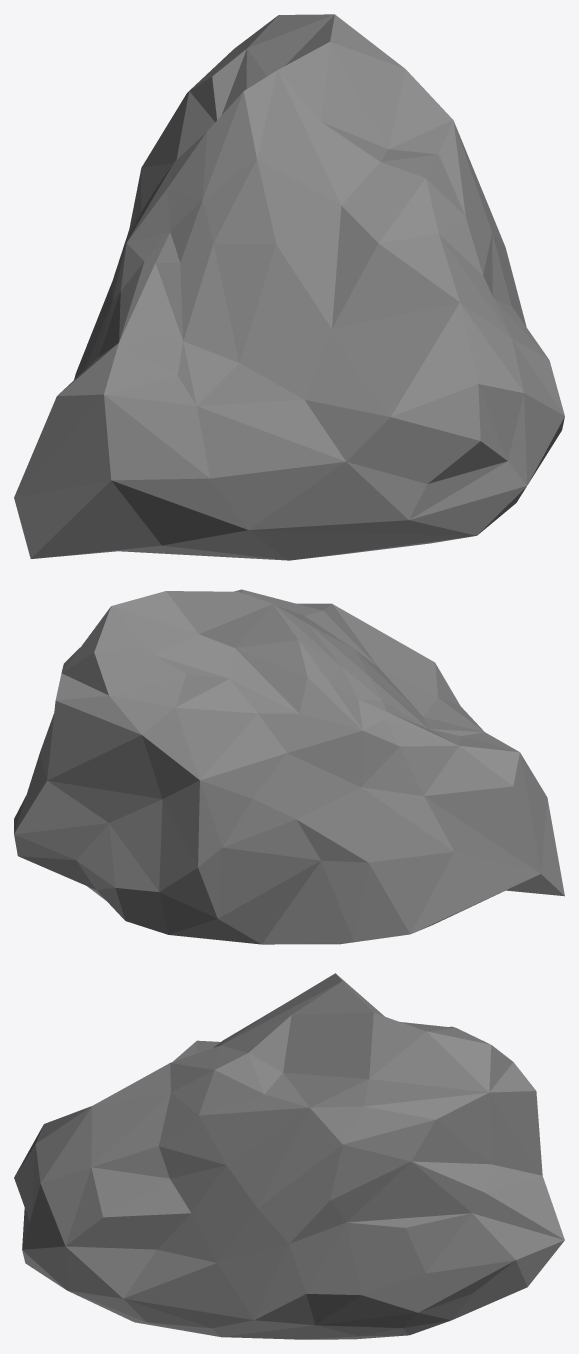
File: rock02.fbx
3 renders of one model, top to bottom at view 1: azimuth 30°, elevation 25°; view 2: azimuth 150°, elevation 25°; view 3: azimuth 270°, elevation 25°, orthographic. The views are drawn at different scales.
Parts seen in each view (by area): view 1: rock02_LOD0; view 2: rock02_LOD0; view 3: rock02_LOD0.
Boxes of the visible parts, x1,y1,x2,y2 form: rock02_LOD0: (14,14,564,560); rock02_LOD0: (14,589,564,944); rock02_LOD0: (14,973,564,1339).
Size of what is drawn, in the model's own units: 201 by 146 by 219.
